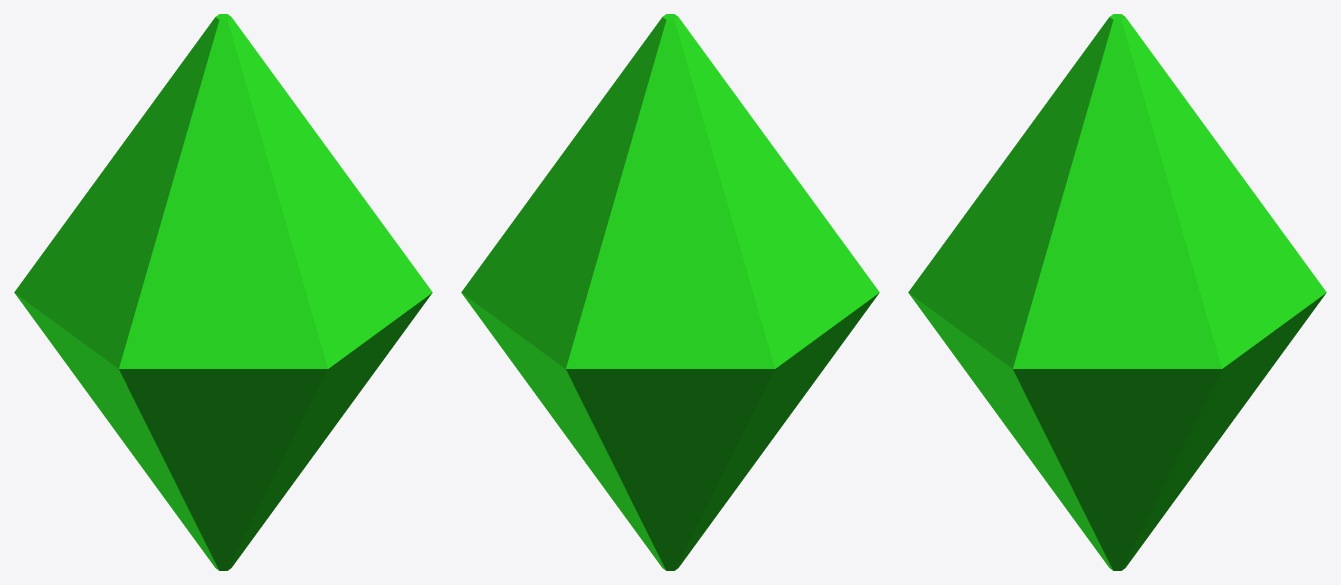
The model's file is Diamond  1.fbx.
3 renders of one model, left to right at view 1: azimuth 30°, elevation 25°; view 2: azimuth 150°, elevation 25°; view 3: azimuth 270°, elevation 25°, orthographic.
Parts seen in each view (by area): view 1: Circle; view 2: Circle; view 3: Circle.
Part boxes in pixels (left/top/right/bottom): Circle: left=14, top=14, right=432, bottom=570; Circle: left=461, top=14, right=879, bottom=570; Circle: left=908, top=14, right=1326, bottom=570.
Size of the model in its own units: 21.59 by 36.2 by 24.93.
